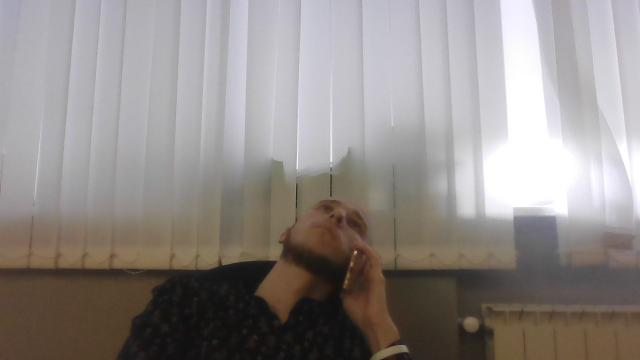Phone: (339, 247, 369, 293)
